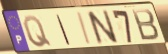7: (111, 9, 133, 44)
B: (130, 8, 161, 42)
I: (76, 11, 93, 46), (56, 14, 73, 47)
N: (85, 9, 120, 47)
Q: (22, 15, 54, 49)
